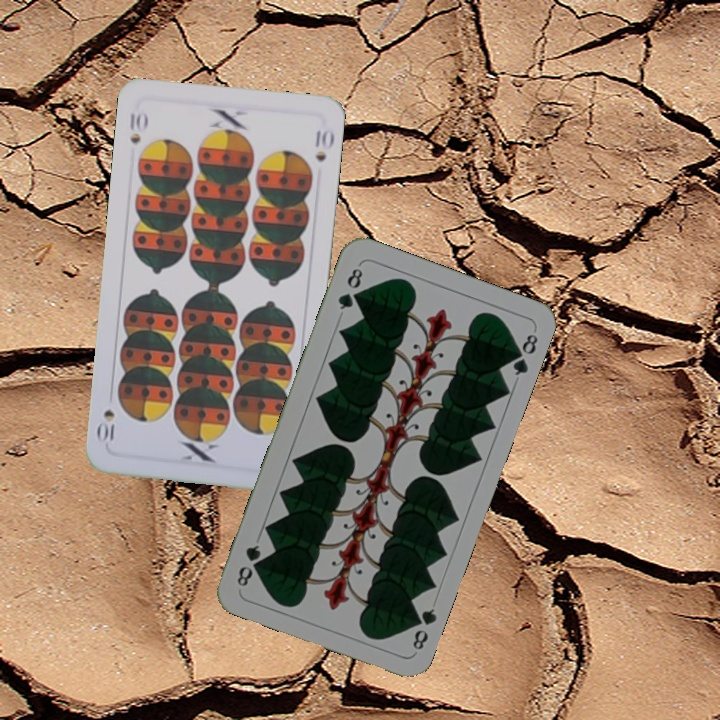G8: (334, 261, 366, 312), (407, 604, 440, 653)
S10: (126, 108, 150, 146)
